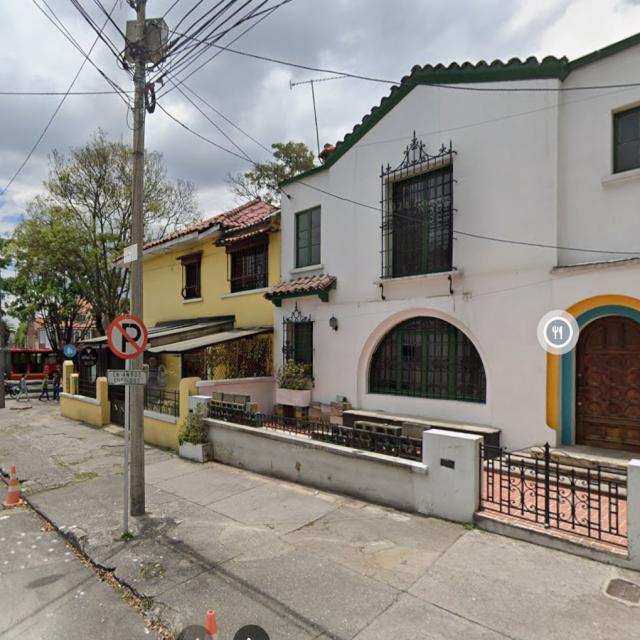fachada: (267, 35, 639, 451), (142, 200, 280, 417), (71, 307, 95, 344)
poste: (130, 0, 146, 320), (123, 386, 130, 535), (0, 275, 5, 408)
